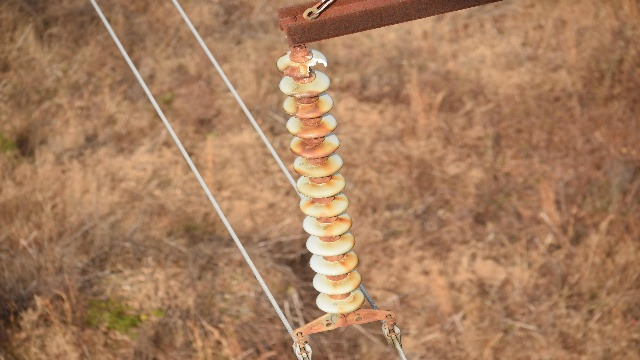broken_local: (301, 57, 328, 75)
insulator_unspecified: (277, 48, 366, 315)
pollution_flashover_local: (288, 139, 341, 158), (283, 104, 325, 118), (290, 124, 331, 137), (339, 253, 361, 271), (280, 64, 304, 77), (285, 90, 320, 97), (336, 216, 352, 226)
